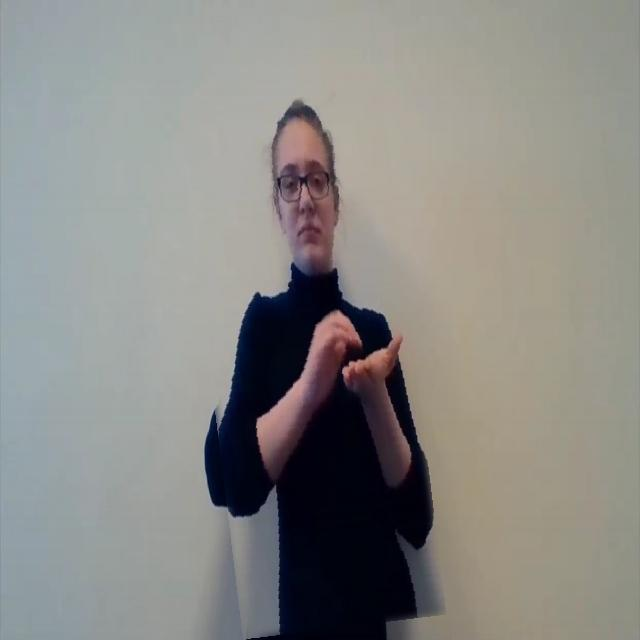ExcuseMe: (194, 93, 431, 634)
